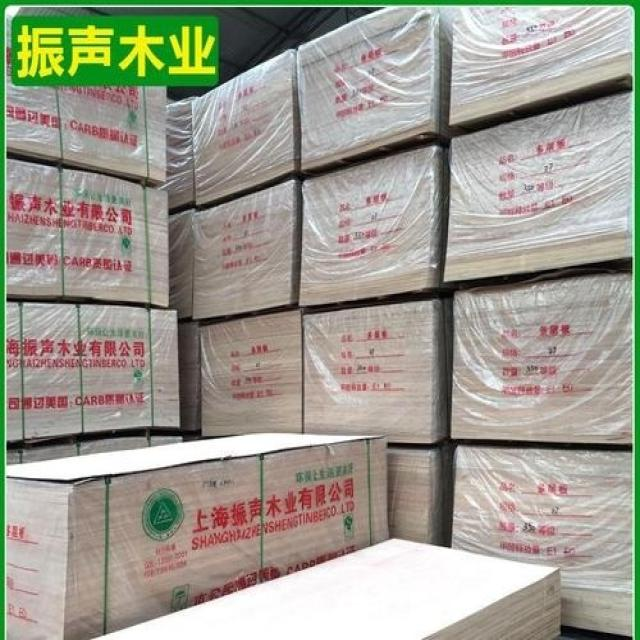box: (6, 433, 390, 640), (445, 93, 634, 281), (452, 446, 632, 637), (451, 270, 632, 443), (5, 17, 166, 186), (300, 146, 457, 311), (298, 7, 451, 176), (6, 304, 180, 443), (6, 159, 169, 307), (451, 7, 634, 132), (305, 298, 451, 444), (193, 48, 300, 208), (193, 180, 301, 319), (201, 309, 302, 436), (390, 444, 456, 546), (6, 436, 183, 466), (168, 96, 196, 210), (170, 208, 195, 318), (179, 322, 200, 430)
